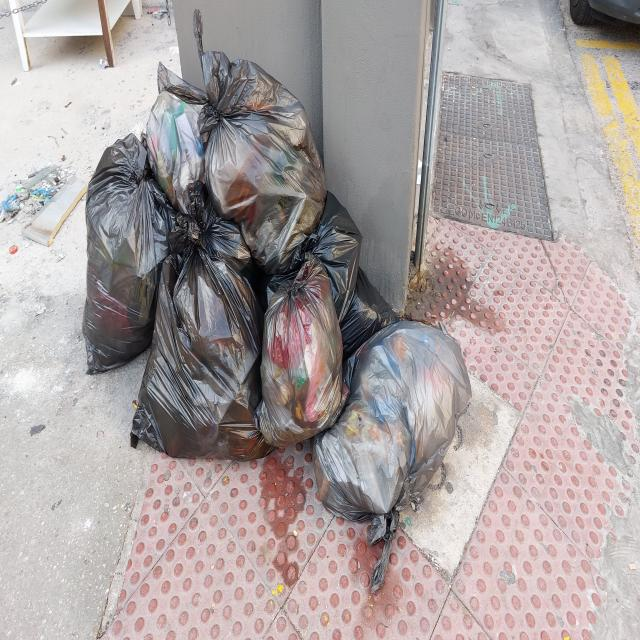Mixed Waste -Black Bag-: (313, 318, 479, 601), (127, 185, 274, 460), (193, 6, 329, 272), (80, 133, 184, 384), (253, 258, 358, 453), (145, 60, 207, 215), (301, 188, 363, 312), (336, 270, 403, 358)
